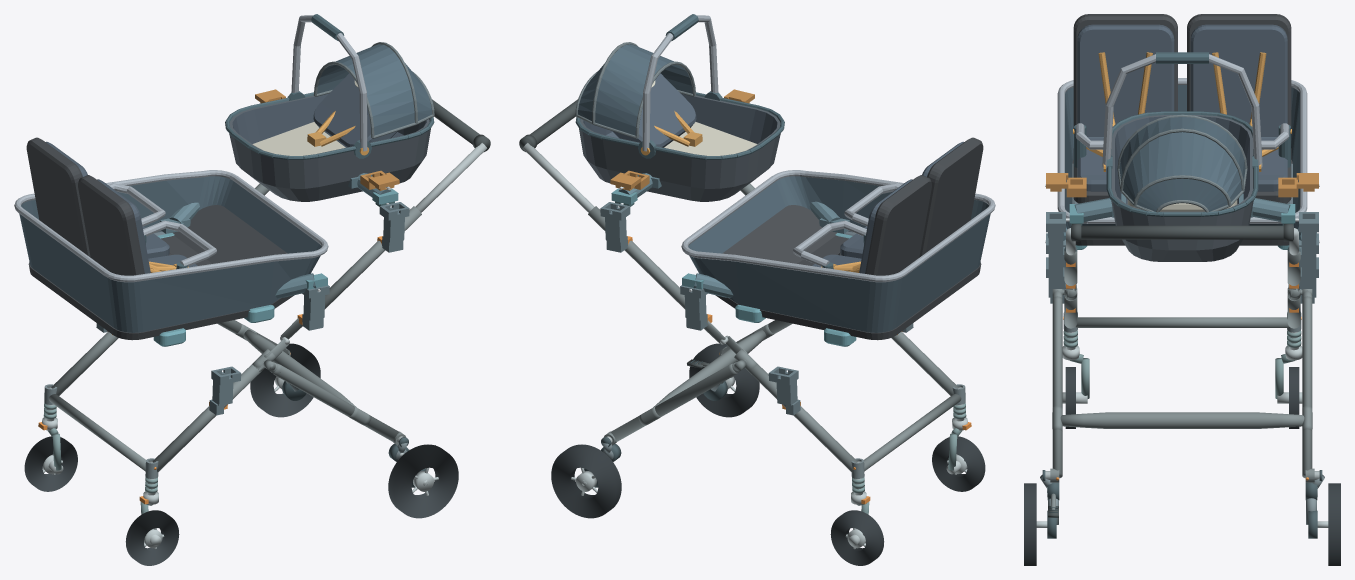
Rendered from D32_w650_state1_wheel_S.glb.
The picture shows the model from 3 angles, left to right: view 1: azimuth 30°, elevation 25°; view 2: azimuth 150°, elevation 25°; view 3: azimuth 270°, elevation 25°; orthographic projection. The views are drawn at different scales.
Parts seen in each view (by area): view 1: D32_Lower, D32_Upper, RL_tire.008, RR_tire.008, FL_tire.008, FR_tire.008, V46_rear_leg_-1.009, main_lower_-1.009, D32_Lower_Mount_M, front_fixed_round_tube.008, main_upper_-1.009, V46_rearbar.009 (+8 smaller); view 2: D32_Lower, D32_Upper, RR_tire.008, FR_tire.008, RL_tire.008, FL_tire.008, V46_rear_leg_1.009, main_lower_1.009, D32_Lower_Mount_M, front_fixed_round_tube.008, main_upper_1.009, V46_rearbar.009 (+8 smaller); view 3: D32_Lower, D32_Upper, V46_rearbar.009, round_handle.008, front_fixed_round_tube.008, D32_Upper_Mount_H, V46_rear_leg_1.009, V46_rear_leg_-1.009, RL_tire.008, RR_tire.008, Universal_Cabin_Receiver_H_1, Universal_Cabin_Receiver_H_-1 (+8 smaller).
Part boxes in pixels (x1=…): D32_Lower: x1=14, y1=137, x2=328, y2=346; D32_Upper: x1=225, y1=14, x2=434, y2=201; RL_tire.008: x1=388, y1=444, x2=458, y2=518; RR_tire.008: x1=250, y1=343, x2=320, y2=417; FL_tire.008: x1=125, y1=510, x2=179, y2=565; FR_tire.008: x1=24, y1=436, x2=77, y2=491; V46_rear_leg_-1.009: x1=272, y1=363, x2=399, y2=441; main_lower_-1.009: x1=152, y1=364, x2=263, y2=472; D32_Lower_Mount_M: x1=160, y1=202, x2=327, y2=298; front_fixed_round_tube.008: x1=48, y1=394, x2=145, y2=471; main_upper_-1.009: x1=324, y1=206, x2=421, y2=309; V46_rearbar.009: x1=243, y1=329, x2=356, y2=407; D32_Lower: x1=681, y1=137, x2=995, y2=346; D32_Upper: x1=575, y1=14, x2=784, y2=201; RR_tire.008: x1=551, y1=444, x2=621, y2=518; FR_tire.008: x1=830, y1=510, x2=884, y2=565; RL_tire.008: x1=689, y1=343, x2=759, y2=417; FL_tire.008: x1=932, y1=436, x2=985, y2=491; V46_rear_leg_1.009: x1=610, y1=363, x2=737, y2=441; main_lower_1.009: x1=746, y1=364, x2=857, y2=472; D32_Lower_Mount_M: x1=682, y1=201, x2=849, y2=297; front_fixed_round_tube.008: x1=864, y1=394, x2=961, y2=471; main_upper_1.009: x1=588, y1=206, x2=685, y2=309; V46_rearbar.009: x1=653, y1=329, x2=766, y2=407; D32_Lower: x1=1057, y1=14, x2=1307, y2=249; D32_Upper: x1=1102, y1=52, x2=1262, y2=261; V46_rearbar.009: x1=1060, y1=412, x2=1304, y2=428; round_handle.008: x1=1071, y1=225, x2=1293, y2=239; front_fixed_round_tube.008: x1=1076, y1=317, x2=1288, y2=327; D32_Upper_Mount_H: x1=1066, y1=193, x2=1298, y2=225; V46_rear_leg_1.009: x1=1302, y1=296, x2=1312, y2=478; V46_rear_leg_-1.009: x1=1052, y1=296, x2=1062, y2=478; RL_tire.008: x1=1024, y1=483, x2=1036, y2=565; RR_tire.008: x1=1328, y1=483, x2=1340, y2=565; Universal_Cabin_Receiver_H_1: x1=1299, y1=212, x2=1318, y2=267; Universal_Cabin_Receiver_H_-1: x1=1046, y1=212, x2=1065, y2=267.
Bounding box in the file's own units: 1.17 × 1.32 × 0.766.
